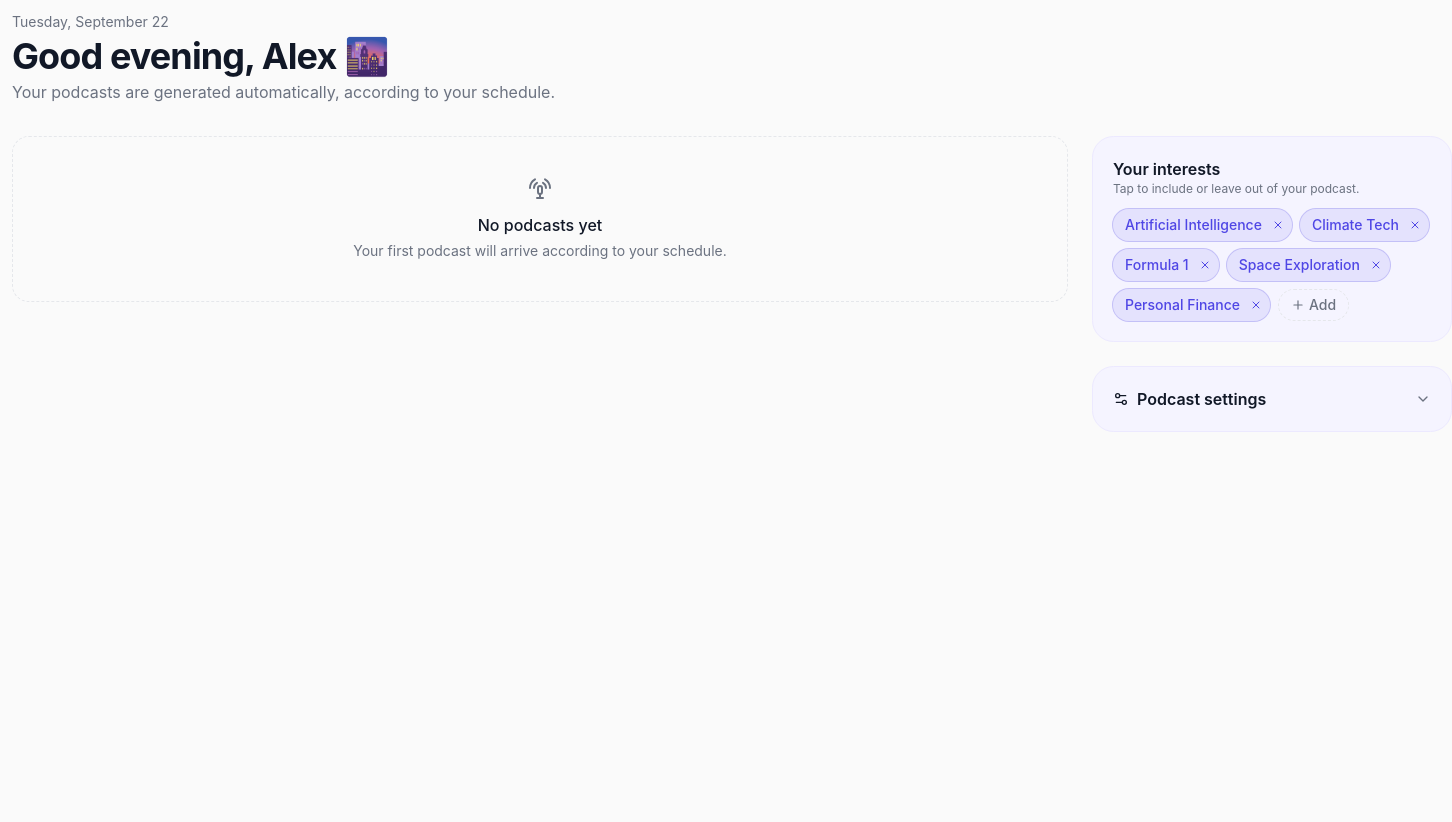
Test: Podcast settings › starts collapsed, and opens and closes on request
Expected: the text "Language" is not shown
Expected: the text "Tone" is not shown
Click the button "Podcast settings": [1202, 399] box [1113, 387, 1431, 411]
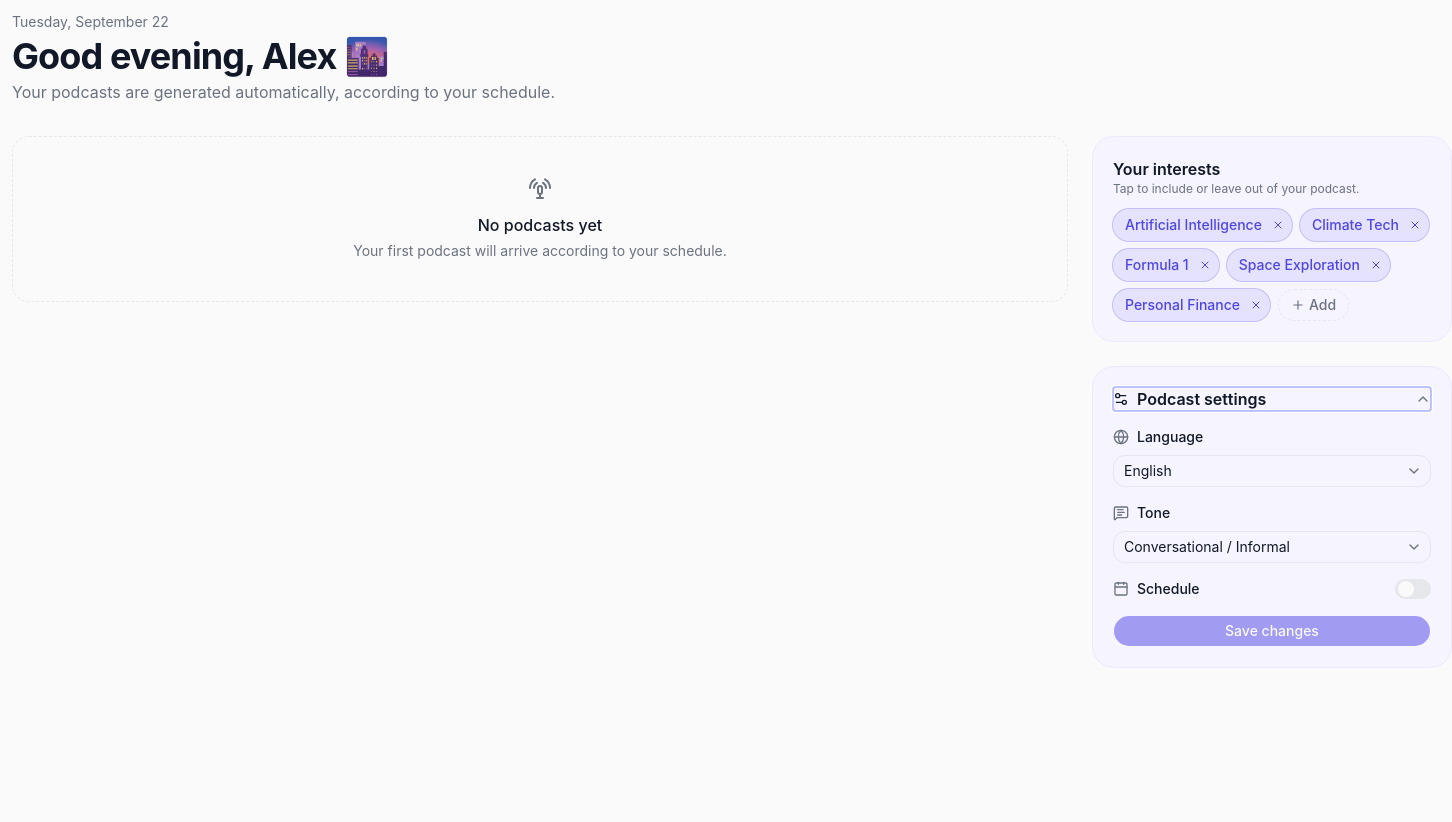
Now the button "Podcast settings" is expanded
Now the text "Language" is shown, box [1113, 428, 1203, 445]
Now the text "Tone" is shown, box [1113, 504, 1170, 521]
Click the button "Podcast settings": [1202, 399] box [1113, 387, 1431, 411]
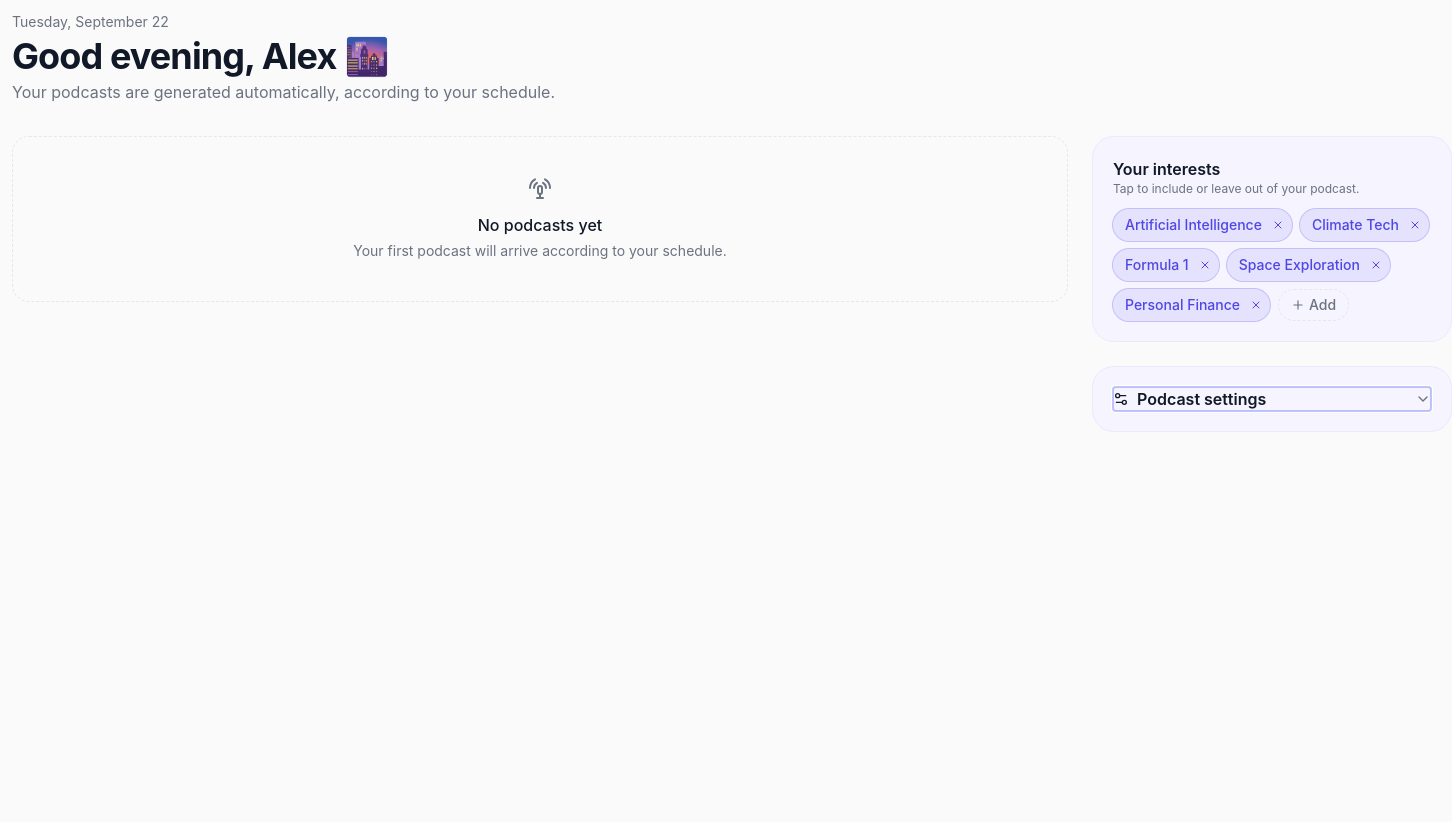
Now the text "Tone" is gone
